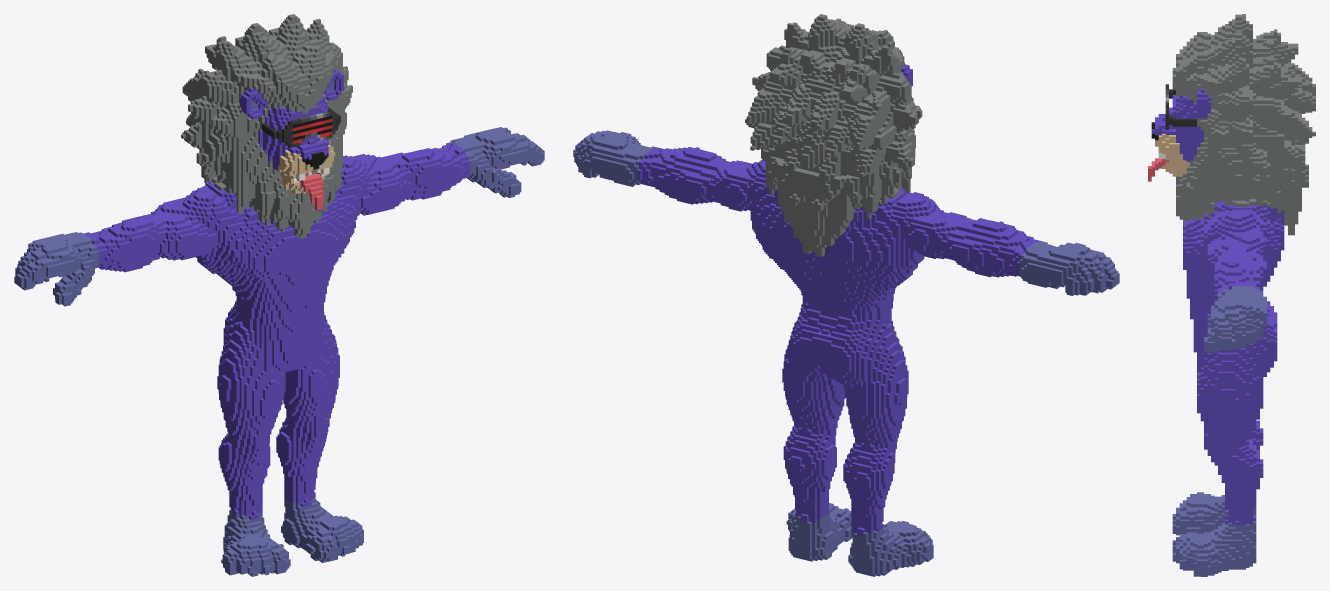
Rendered from 733-9giTyuVa.glb.
The picture shows the model from 3 angles, left to right: view 1: azimuth 30°, elevation 25°; view 2: azimuth 150°, elevation 25°; view 3: azimuth 270°, elevation 25°; orthographic projection. The views are drawn at different scales.
Visible parts, largest first — view 1: tongue_out; view 2: tongue_out; view 3: tongue_out.
Part boxes in pixels (bbox=[...]): tongue_out: bbox=[14, 14, 544, 576]; tongue_out: bbox=[573, 14, 1119, 576]; tongue_out: bbox=[1148, 14, 1315, 576].
Size of the model in its own units: 17.2 by 16.5 by 4.8.
Materials: 4 (4 with a texture image).
